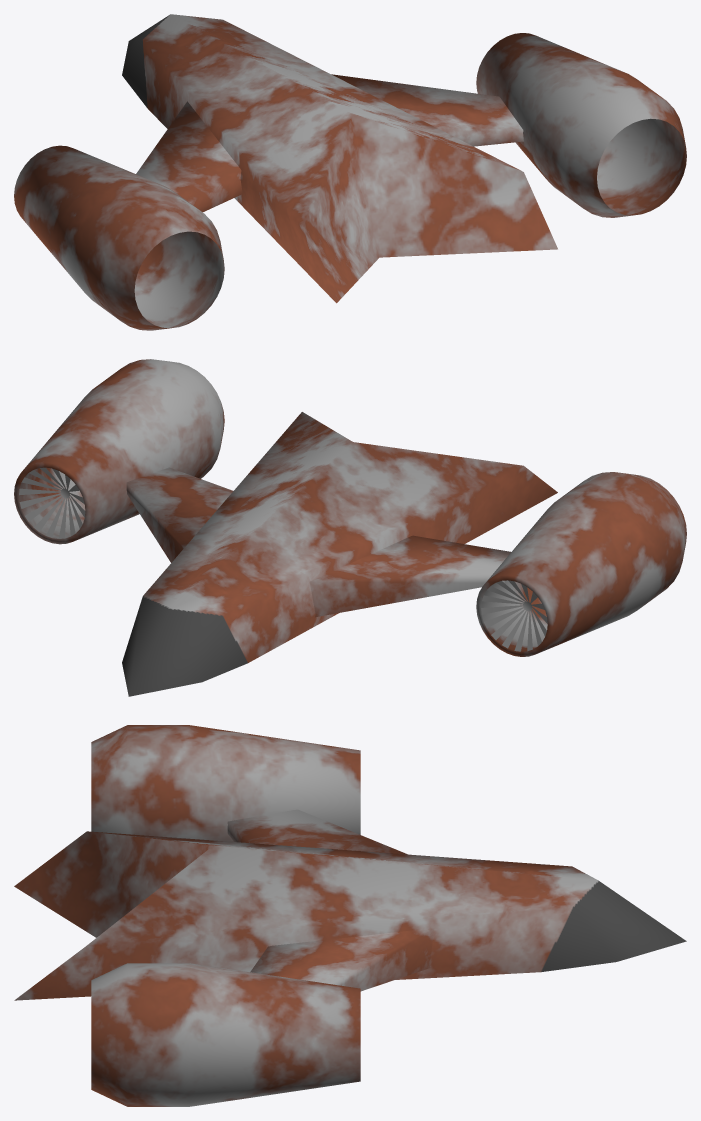
File: PirateTwo.fbx
3 renders of one model, top to bottom at view 1: azimuth 30°, elevation 25°; view 2: azimuth 150°, elevation 25°; view 3: azimuth 270°, elevation 25°, orthographic. The views are drawn at different scales.
Parts seen in each view (by area): view 1: pirate_2; view 2: pirate_2; view 3: pirate_2.
Part boxes in pixels (left/top/right/bottom): pirate_2: left=14, top=14, right=686, bottom=330; pirate_2: left=14, top=359, right=686, bottom=696; pirate_2: left=14, top=725, right=686, bottom=1106.
Size of the model in its own units: 10657 by 10137 by 2251.
